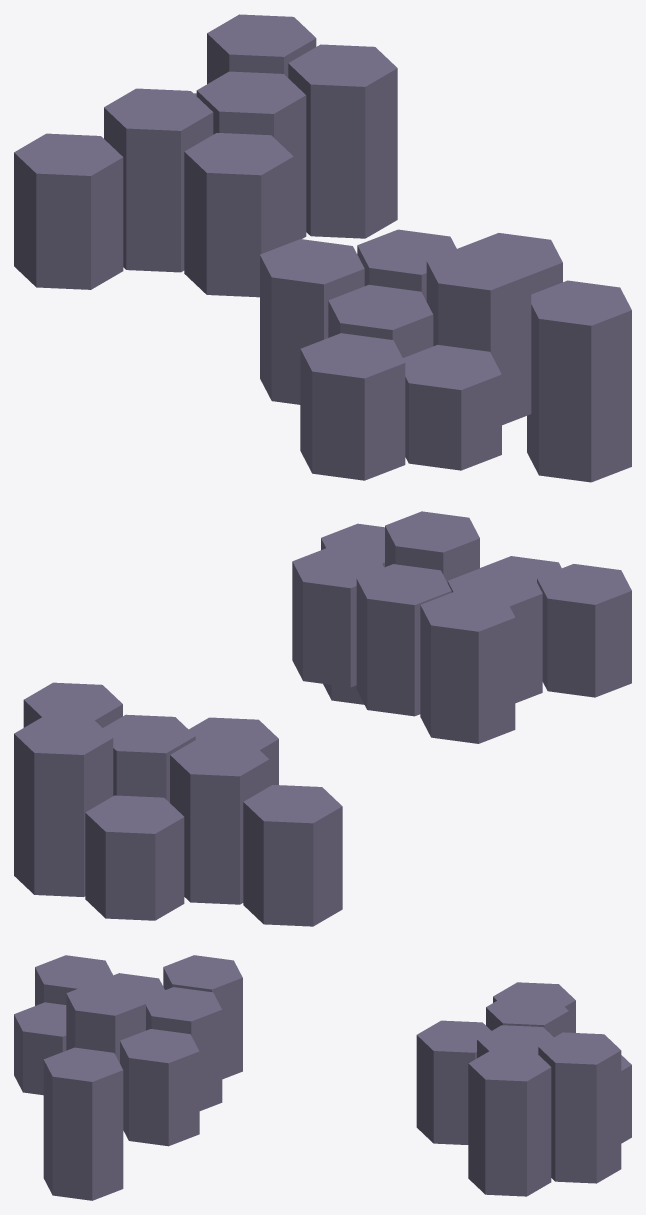
File: rock-1.glb
3 renders of one model, top to bottom at view 1: azimuth 30°, elevation 25°; view 2: azimuth 150°, elevation 25°; view 3: azimuth 270°, elevation 25°, orthographic. The views are drawn at different scales.
Parts seen in each view (by area): view 1: basaltRocksPhysicalStatic.002; view 2: basaltRocksPhysicalStatic.002; view 3: basaltRocksPhysicalStatic.002.
Part boxes in pixels (bbox=[...]): basaltRocksPhysicalStatic.002: bbox=[14, 14, 631, 482]; basaltRocksPhysicalStatic.002: bbox=[14, 511, 631, 926]; basaltRocksPhysicalStatic.002: bbox=[14, 955, 631, 1200].
Size of the model in its own units: 5.76 by 3.03 by 11.08.
1 material, 1 textured.
